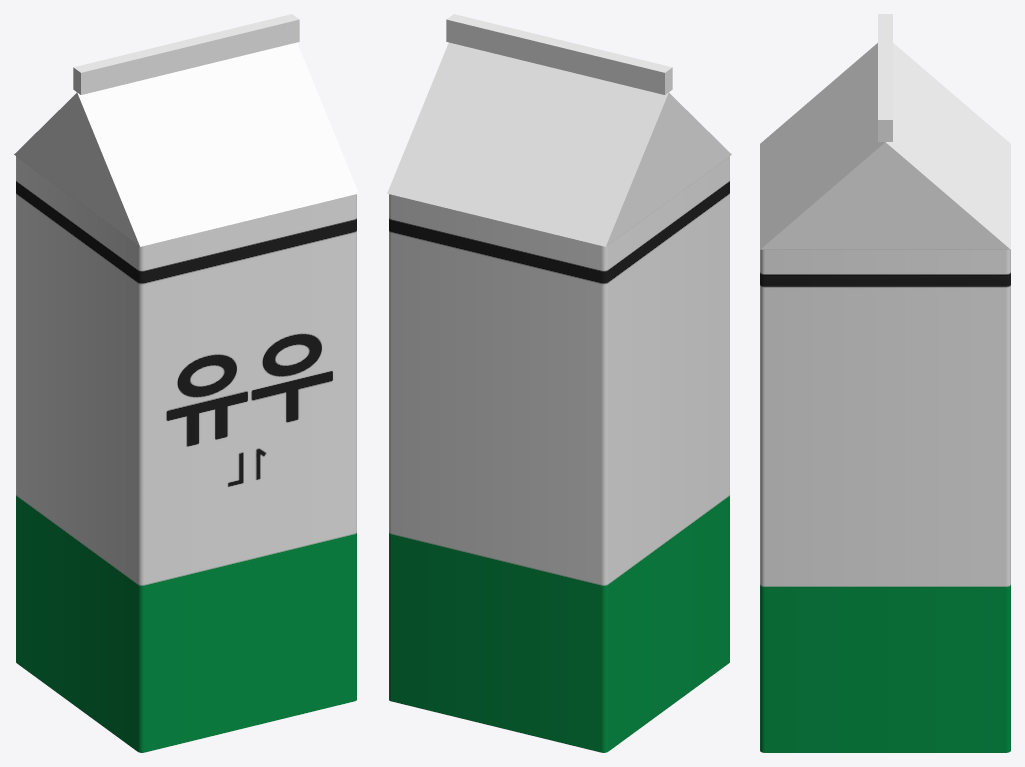
The model's file is item-milk_1000.glb.
3 renders of one model, left to right at view 1: azimuth 30°, elevation 25°; view 2: azimuth 150°, elevation 25°; view 3: azimuth 270°, elevation 25°, orthographic.
Parts seen in each view (by area): view 1: body, roof, fin; view 2: body, roof, fin; view 3: body, roof, fin.
Part boxes in pixels (left/top/right/bottom): body: left=16, top=156, right=356, bottom=752; roof: left=14, top=42, right=358, bottom=246; fin: left=73, top=14, right=299, bottom=94; body: left=389, top=156, right=729, bottom=752; roof: left=387, top=42, right=731, bottom=246; fin: left=446, top=14, right=672, bottom=94; body: left=760, top=249, right=1010, bottom=752; roof: left=760, top=43, right=1010, bottom=249; fin: left=878, top=14, right=892, bottom=141.
Bounding box in the file's own units: 0.07 × 0.195 × 0.07.
Materials: 3 (1 with a texture image).
